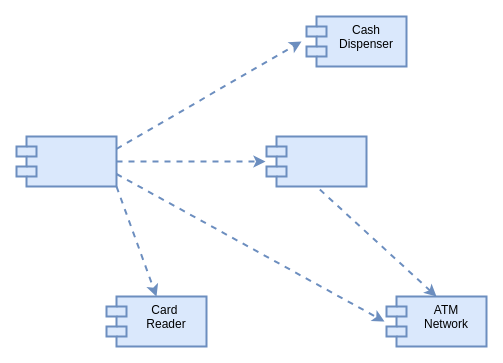
This 503x363 diagram has some shape labels left out. Each missing label, with the box of its shape:
ATM: (15, 135, 117, 187)
Card Validator: (265, 135, 367, 187)
